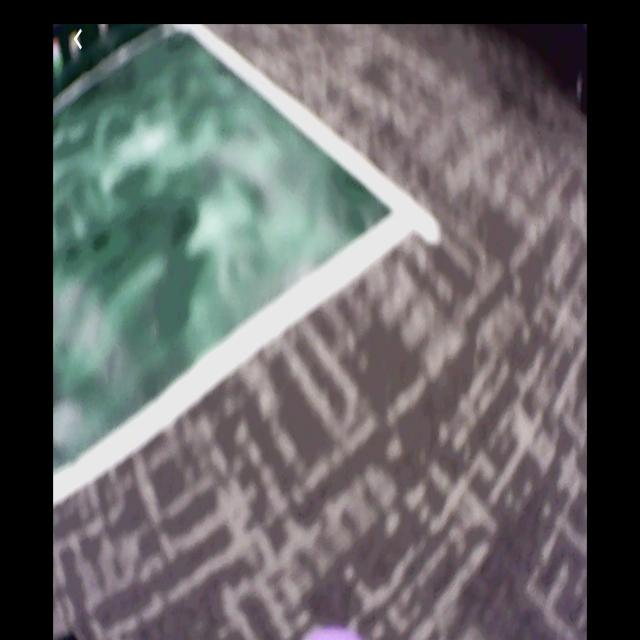ball: (306, 625, 369, 640)
